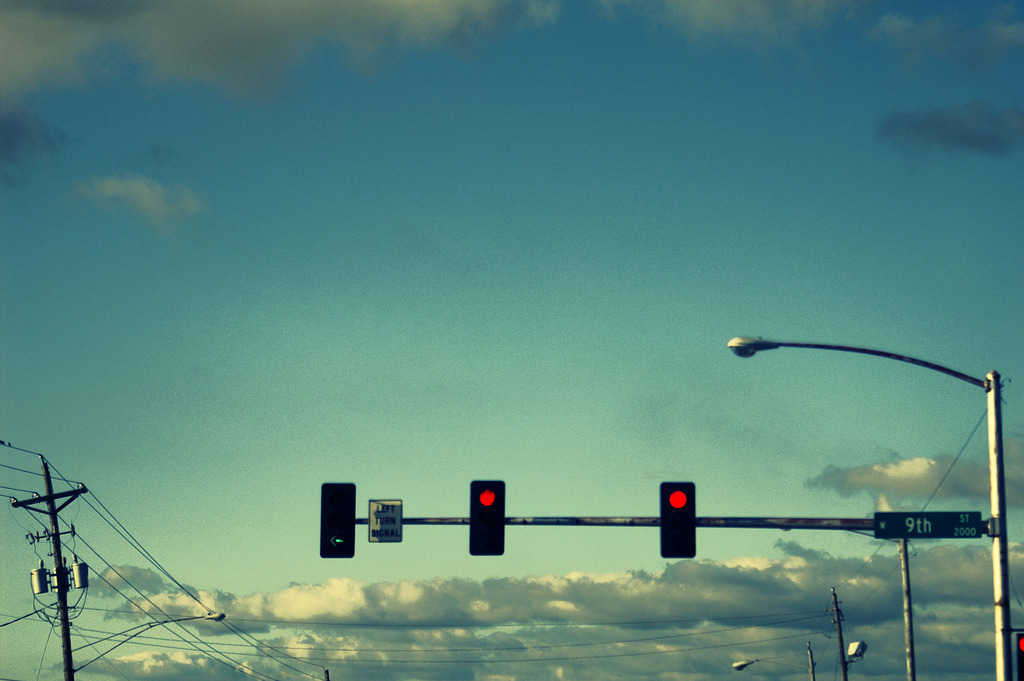red_light: (475, 485, 501, 510), (665, 488, 689, 511)
